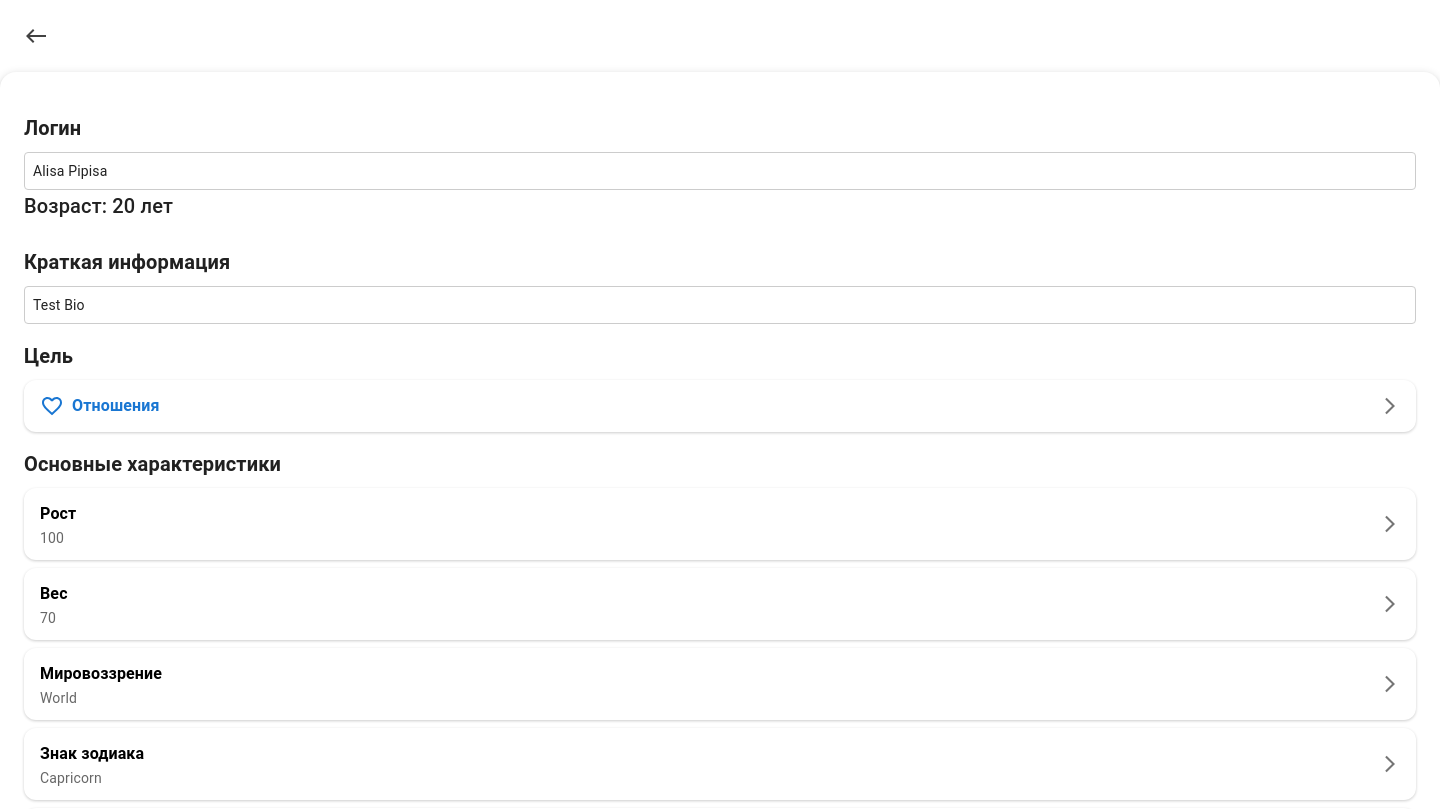
Test: EditProfilePage › opens and selects main feature option
Click the button "Рост 100" at (58, 514), box [24,488,1416,560]
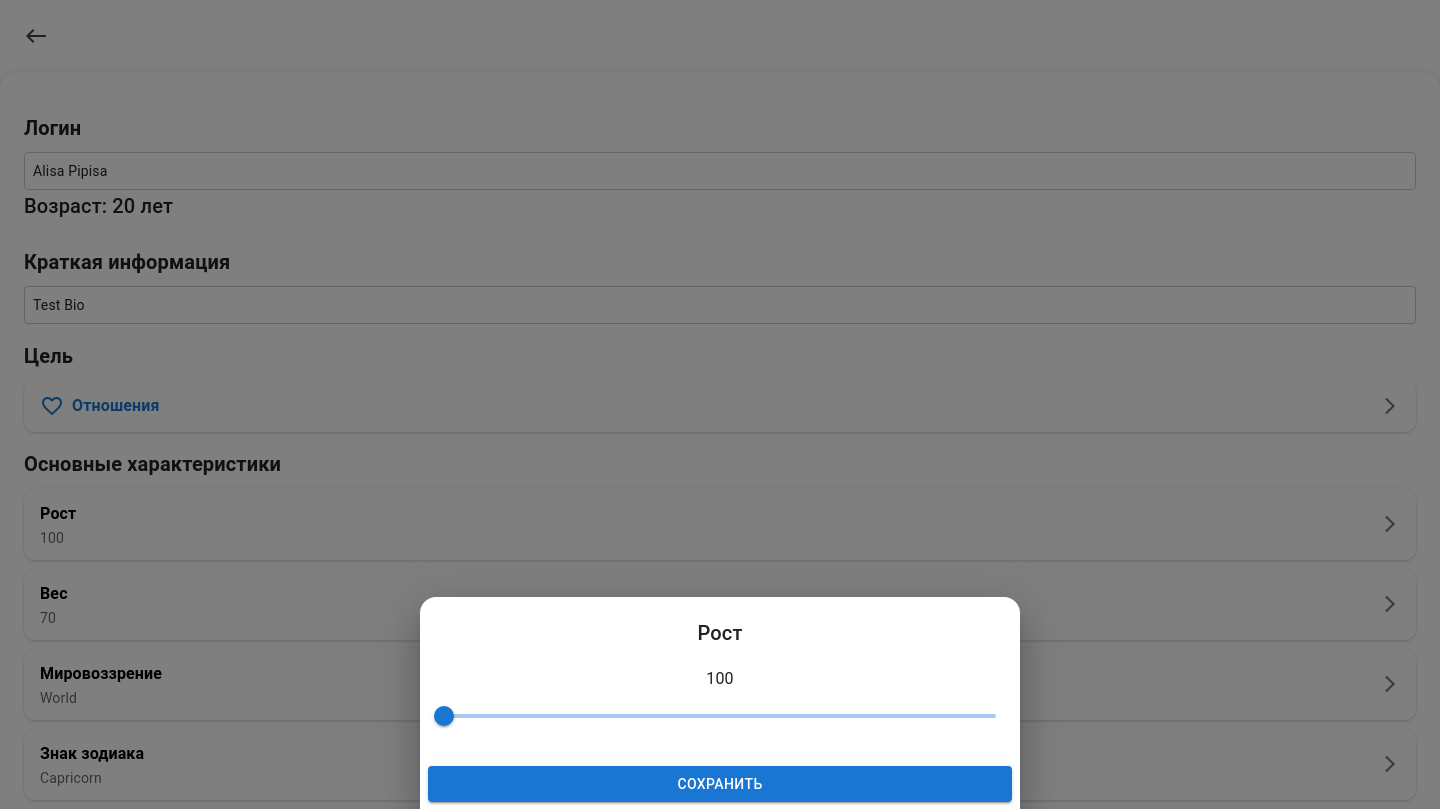
Check: the text "100" is shown 2 times, box [40,528,64,548]; [706,668,734,688]
Check: the button "Сохранить" is shown, box [428,766,1012,802]
